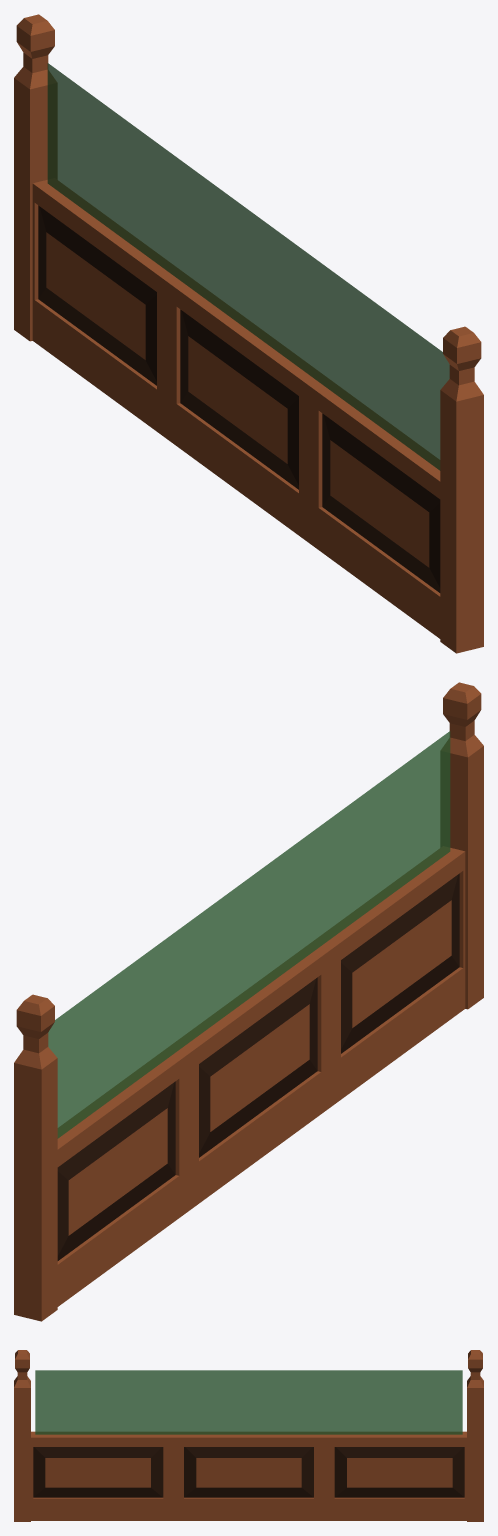
File: bar-separation.glb
The picture shows the model from 3 angles, top to bottom: view 1: azimuth 30°, elevation 25°; view 2: azimuth 150°, elevation 25°; view 3: azimuth 270°, elevation 25°; orthographic projection. The views are drawn at different scales.
Visible parts, largest first — view 1: separation; view 2: separation; view 3: separation.
Part boxes in pixels (x1,y1,x2,y2): separation: (14,14,483,653); separation: (14,682,483,1321); separation: (14,1350,483,1521).
Size of the model in its own units: 0.2175 by 2.35 by 6.03.
